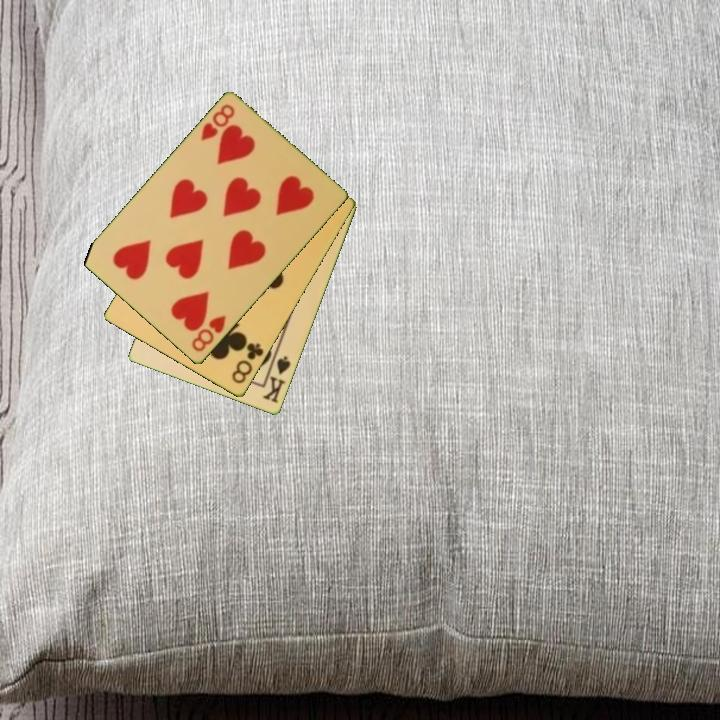8c: (228, 339, 267, 387)
8h: (188, 312, 229, 355), (197, 101, 238, 144)
Ks: (259, 350, 294, 406)
